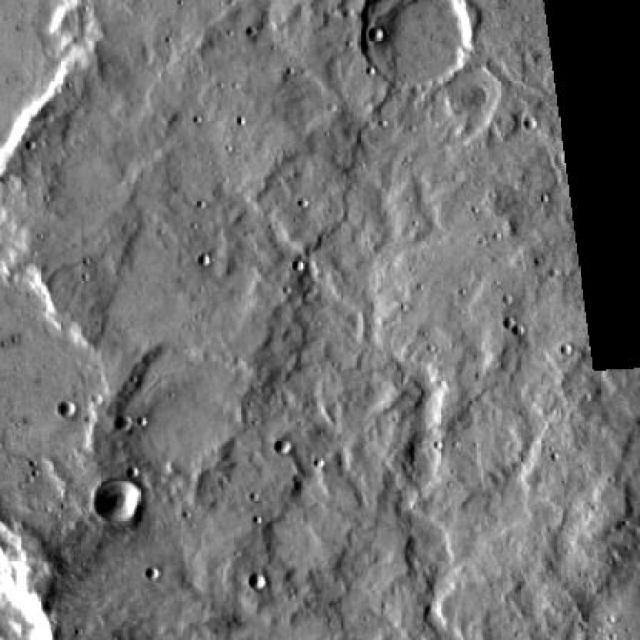crater: (128, 347, 254, 470), (366, 0, 485, 82), (91, 475, 140, 523), (54, 399, 74, 419), (274, 437, 292, 454), (247, 574, 264, 591)
